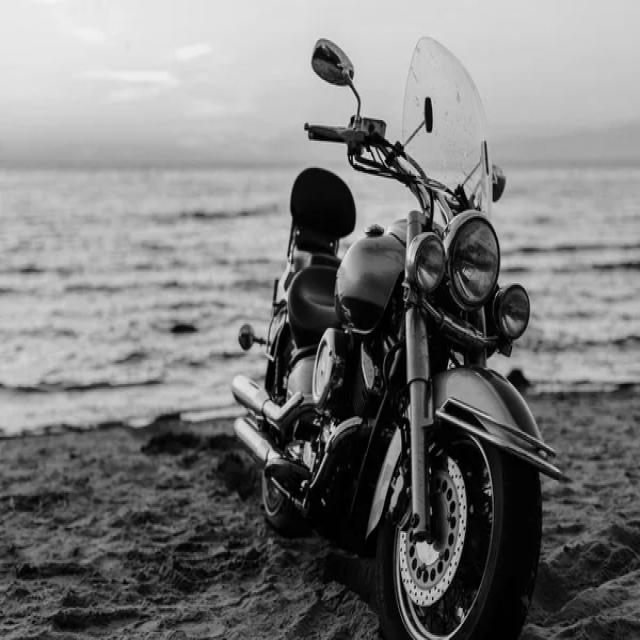Motorcycle: (231, 37, 561, 638)
